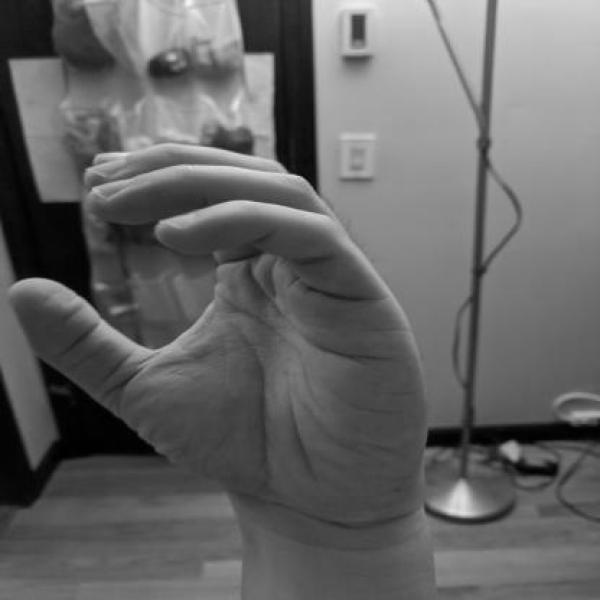C: (0, 137, 441, 528)
